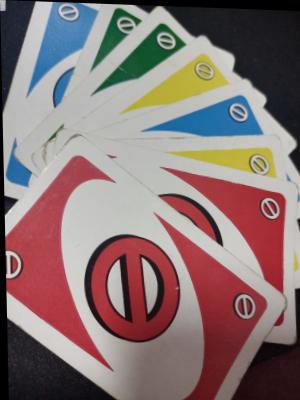skip: (76, 225, 187, 351), (227, 284, 260, 324), (252, 190, 286, 225), (4, 240, 27, 288), (225, 95, 256, 129), (243, 145, 272, 177), (152, 24, 180, 53), (191, 55, 219, 83), (114, 11, 140, 37), (55, 2, 82, 25)
